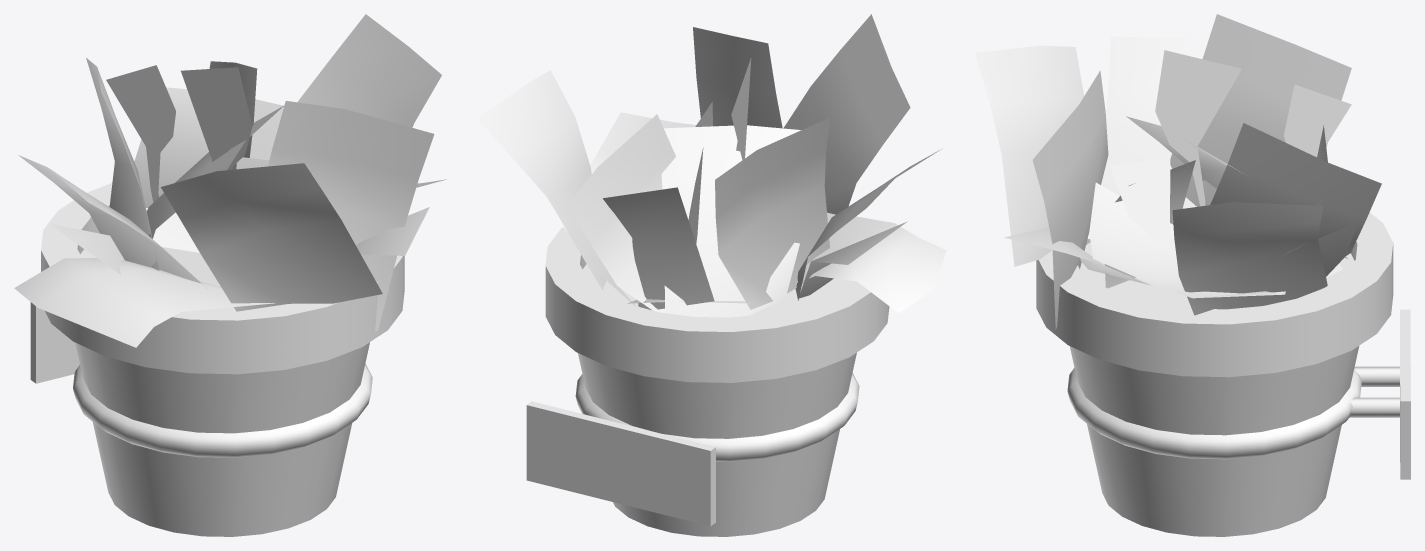
File: Wall Plant 3.glb
The picture shows the model from 3 angles, left to right: view 1: azimuth 30°, elevation 25°; view 2: azimuth 150°, elevation 25°; view 3: azimuth 270°, elevation 25°; orthographic projection. The views are drawn at different scales.
Visible parts, largest first — view 1: Wall Plant 3; view 2: Wall Plant 3; view 3: Wall Plant 3.
Part boxes in pixels (bbox=[...]): Wall Plant 3: bbox=[14, 14, 446, 536]; Wall Plant 3: bbox=[477, 14, 946, 536]; Wall Plant 3: bbox=[975, 14, 1410, 536].
Bounding box in the file's own units: 0.3545 × 0.3701 × 0.3364.
Materials: 2 (1 with a texture image).
